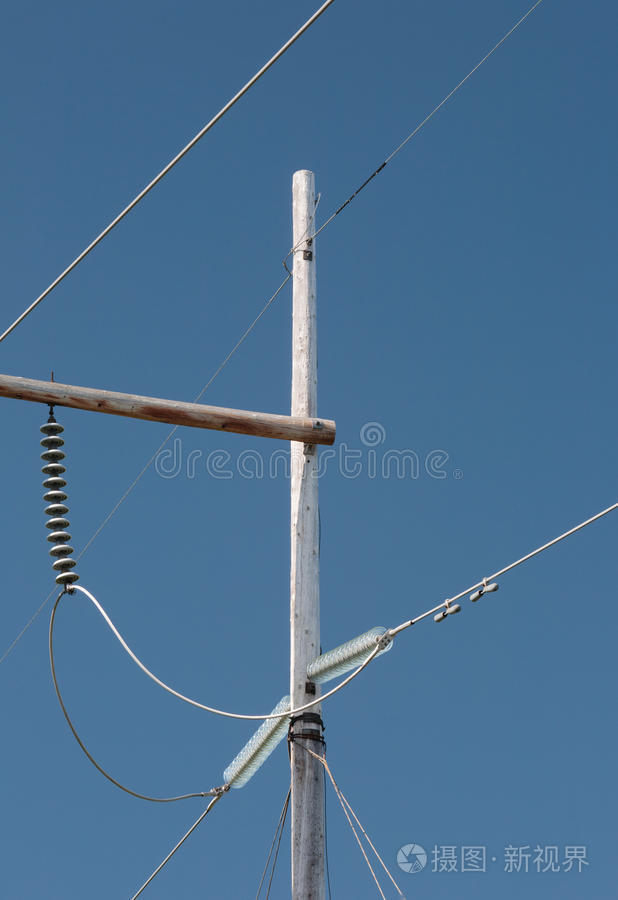insulator: (38, 419, 80, 586), (224, 694, 294, 790), (302, 624, 392, 681)
